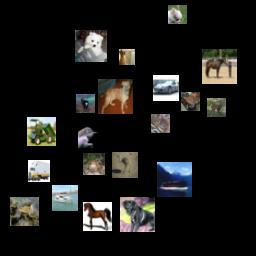automobile: (153, 75, 179, 101), (181, 92, 200, 111)
bird: (112, 152, 138, 178)
cat: (151, 114, 170, 133)
deer: (76, 94, 95, 113), (207, 98, 226, 117)
dog: (98, 79, 133, 114), (120, 197, 155, 232), (75, 30, 107, 62), (168, 5, 187, 24), (119, 49, 135, 65)
frog: (10, 197, 39, 226), (83, 153, 105, 175)
ship: (157, 162, 192, 197), (52, 185, 78, 211)
truck: (27, 117, 56, 146), (28, 160, 50, 182)
